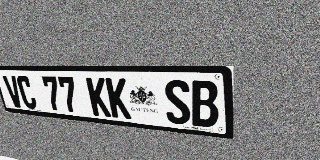7: (56, 77, 81, 114), (40, 76, 64, 112)
B: (190, 80, 219, 128)
C: (15, 75, 38, 109)
K: (105, 78, 132, 119), (86, 77, 111, 117)
S: (163, 79, 191, 125)
V: (2, 75, 25, 108)
